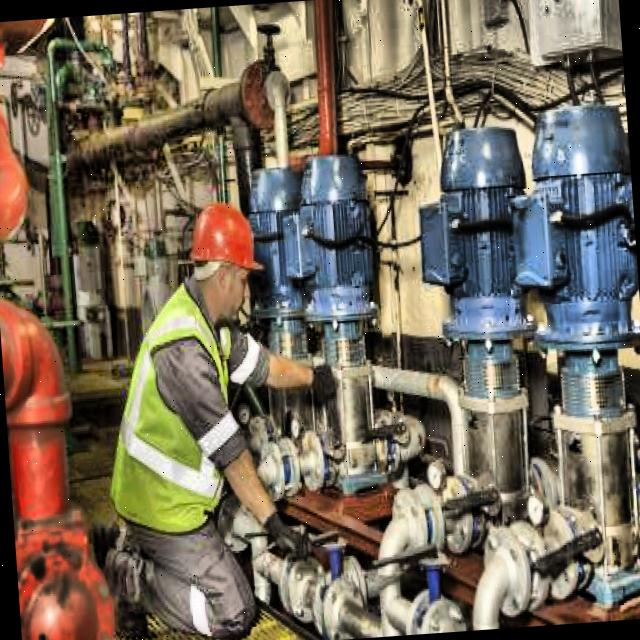helmet: (179, 194, 267, 329)
